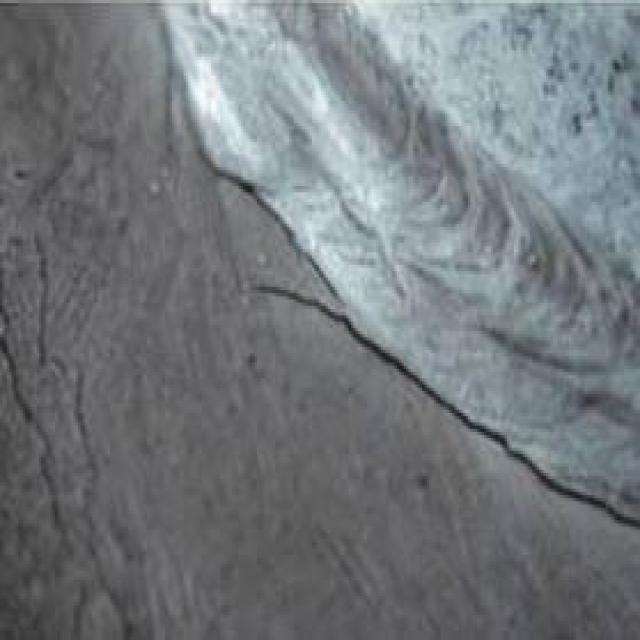defect: (249, 278, 640, 533), (153, 14, 351, 318)
